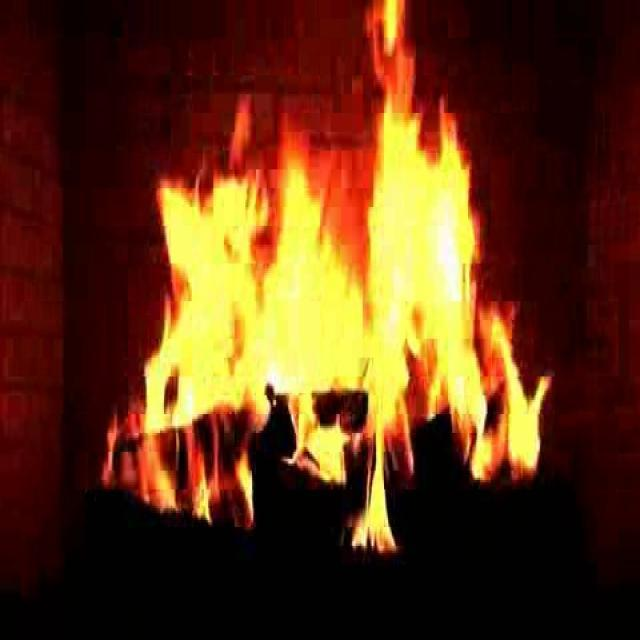Fire: (147, 71, 532, 526)
